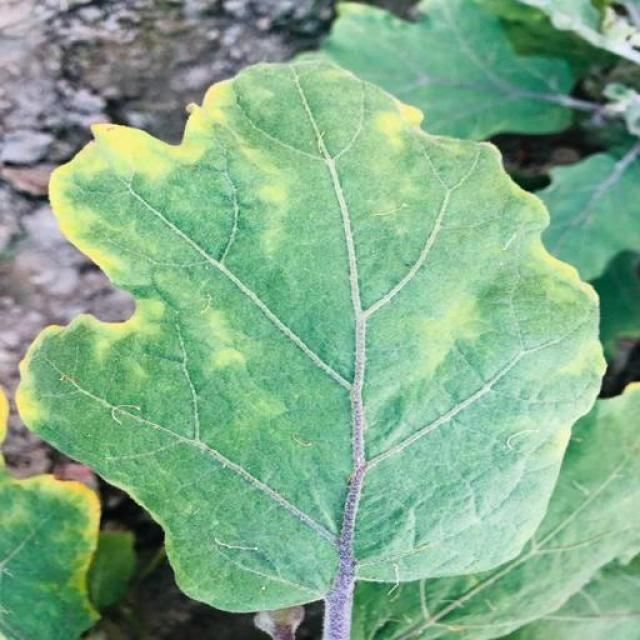leaf_spot: (153, 84, 228, 164), (55, 166, 120, 250), (75, 157, 153, 220), (32, 481, 108, 543), (360, 102, 428, 160), (426, 292, 472, 360), (85, 314, 160, 347), (27, 358, 42, 434)
